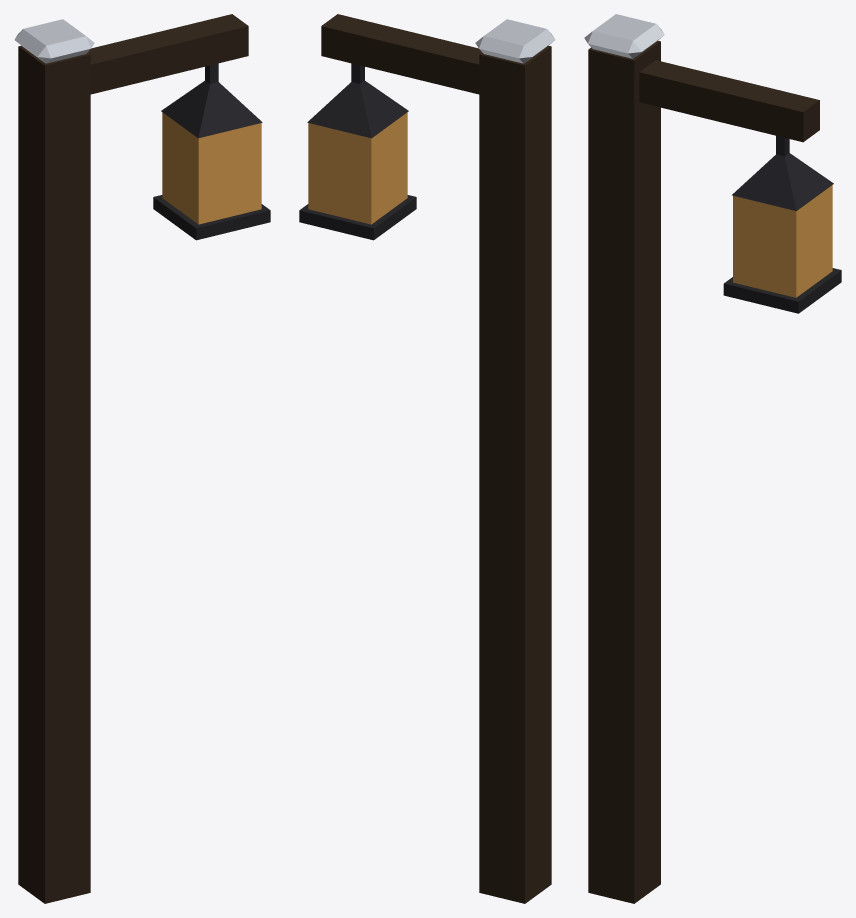
Rendered from village_lantern_post.glb.
The picture shows the model from 3 angles, left to right: view 1: azimuth 30°, elevation 25°; view 2: azimuth 150°, elevation 25°; view 3: azimuth 330°, elevation 25°; orthographic projection.
Visible parts, largest first — view 1: village_lantern_post; view 2: village_lantern_post; view 3: village_lantern_post.
Part boxes in pixels (x1=…): village_lantern_post: x1=14, y1=14, x2=270, y2=903; village_lantern_post: x1=299, y1=14, x2=555, y2=903; village_lantern_post: x1=584, y1=14, x2=841, y2=903.
Bounding box in the file's own units: 0.78 × 2.86 × 0.26.
